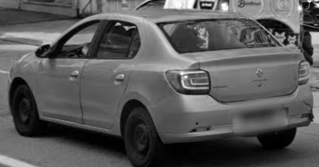car: (8, 12, 314, 166)
